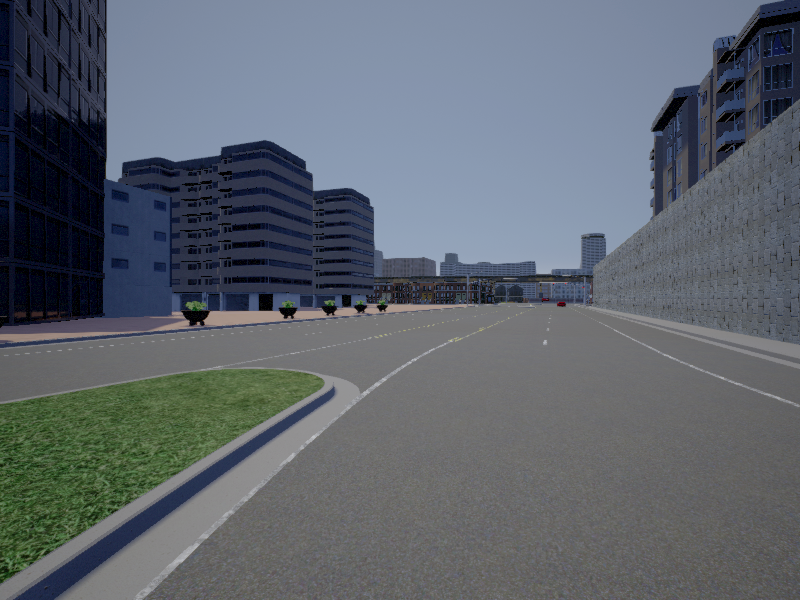Attacker: (541, 295, 551, 303)
Benign: (557, 300, 567, 306)
